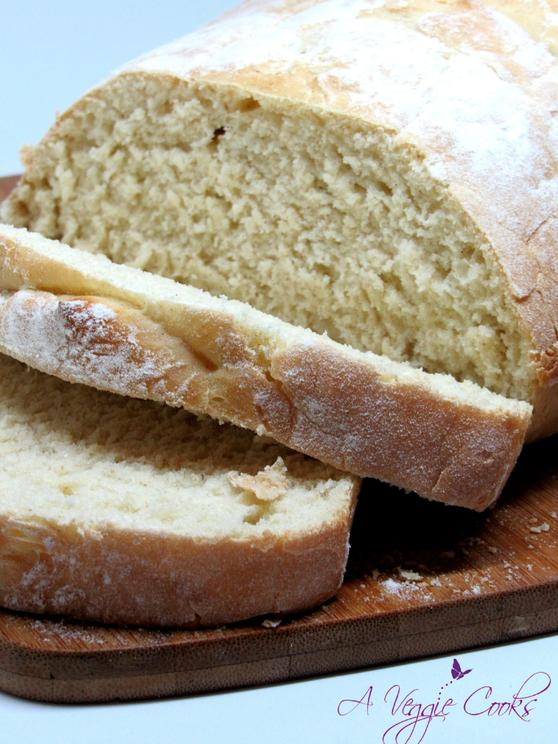white_bread: (19, 1, 558, 408)
